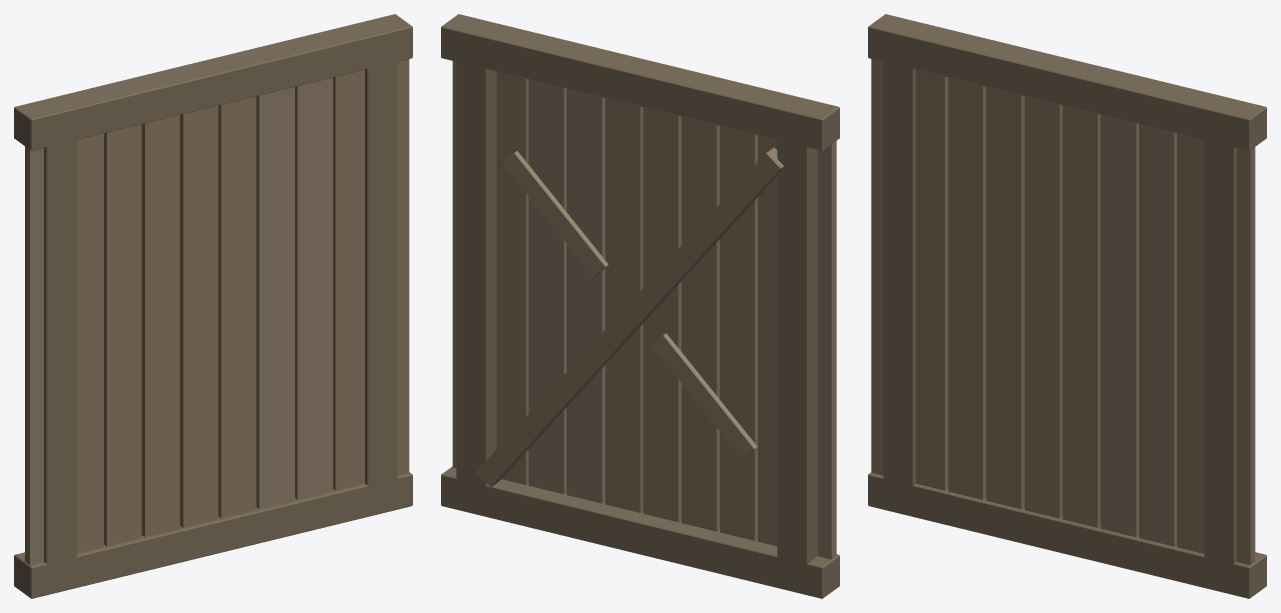
File: env_wall_plank_repaired_c_v05_diagonal_patches.glb
3 views of the same model, side by side, from view 1: azimuth 30°, elevation 25°; view 2: azimuth 150°, elevation 25°; view 3: azimuth 330°, elevation 25° (orthographic).
Parts seen in each view (by area): view 1: material_0, material_2, material_1; view 2: material_0, material_2, material_1, material_3; view 3: material_0, material_2, material_1.
Part boxes in pixels (<box>): material_0: <box>76,59,409,553</box>; material_2: <box>14,14,412,598</box>; material_1: <box>25,77,332,565</box>; material_0: <box>452,61,783,546</box>; material_2: <box>441,14,839,598</box>; material_1: <box>528,79,836,559</box>; material_3: <box>502,151,757,459</box>; material_0: <box>916,70,1255,565</box>; material_2: <box>868,14,1266,598</box>; material_1: <box>871,59,1176,546</box>.
Size of the model in its own units: 2 by 2.4 by 0.19.
